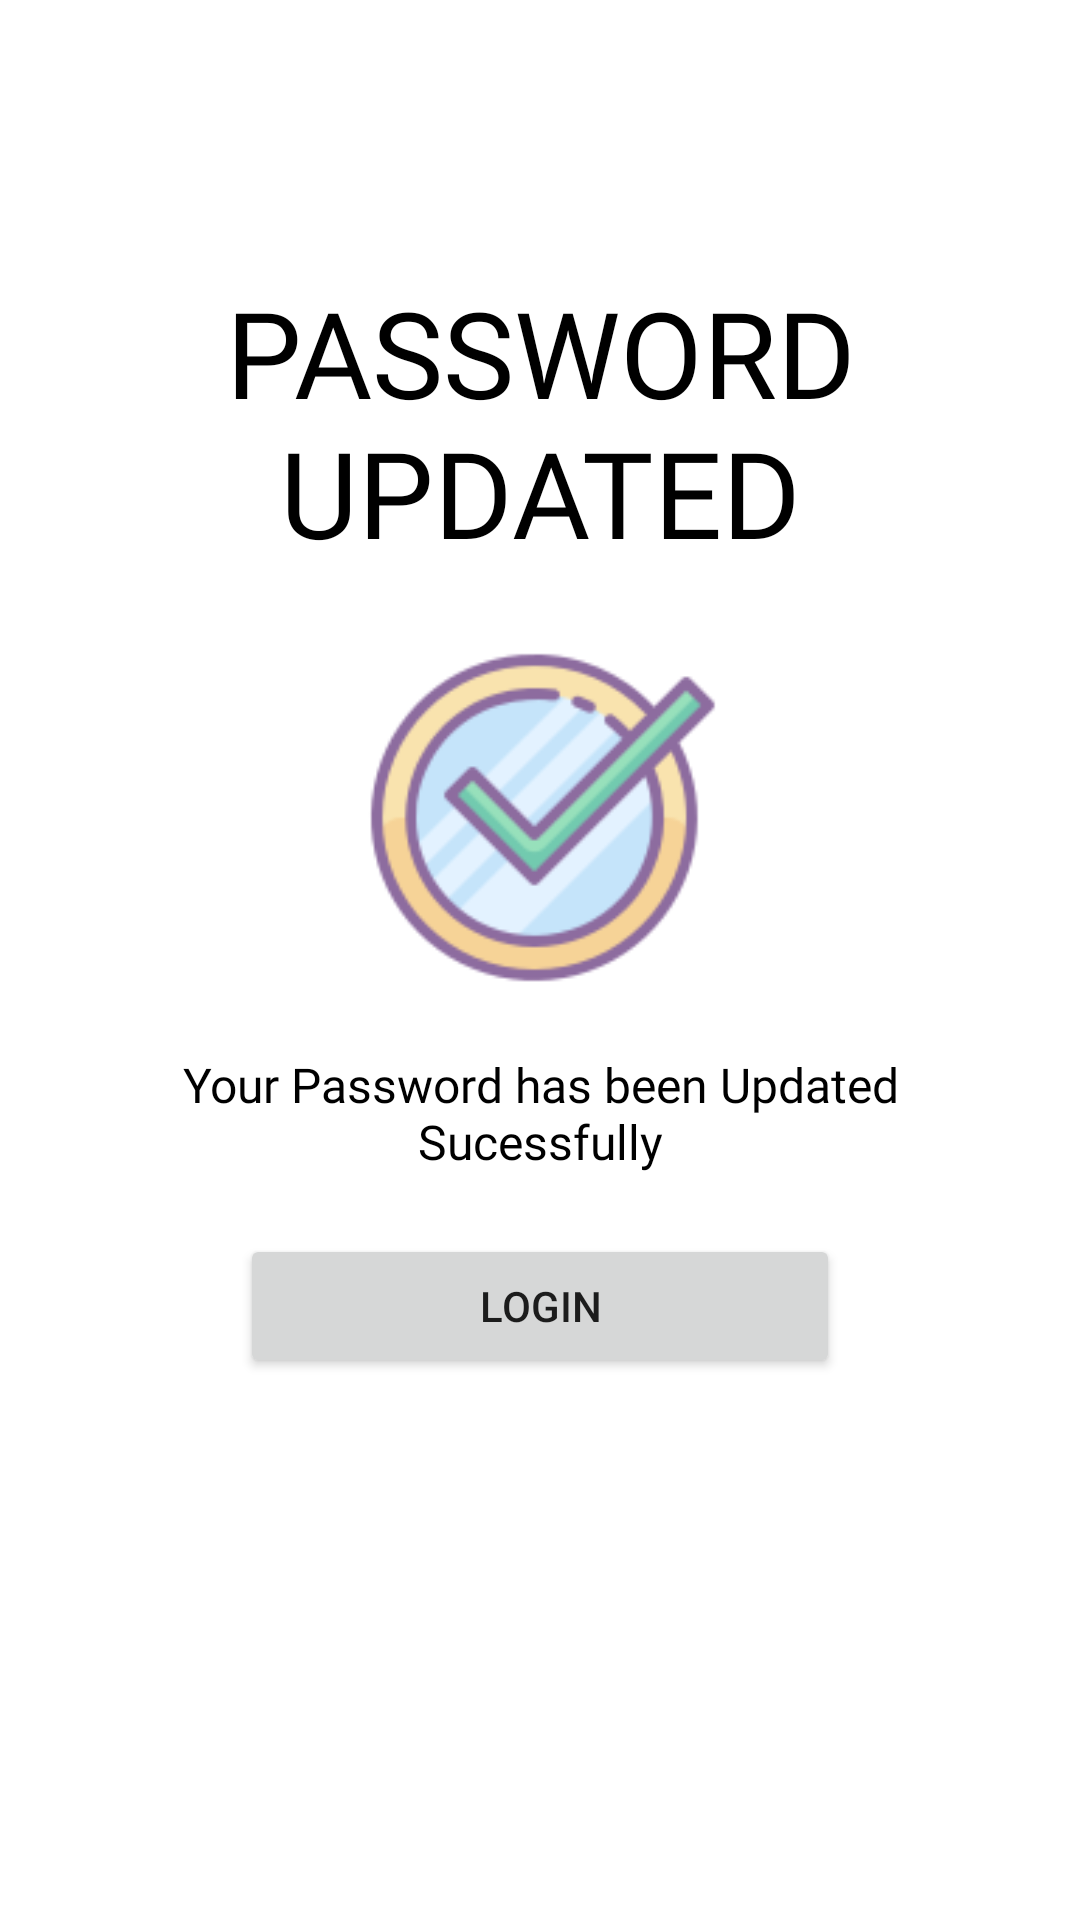

Point at icon controls on the screen. Image size 1080x1920, points as point (x, y).
checked: point (542, 818)
